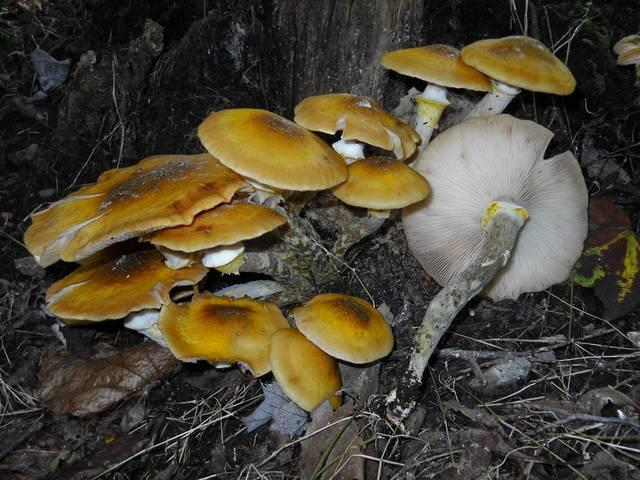edible_mushroom: (23, 33, 590, 419)
